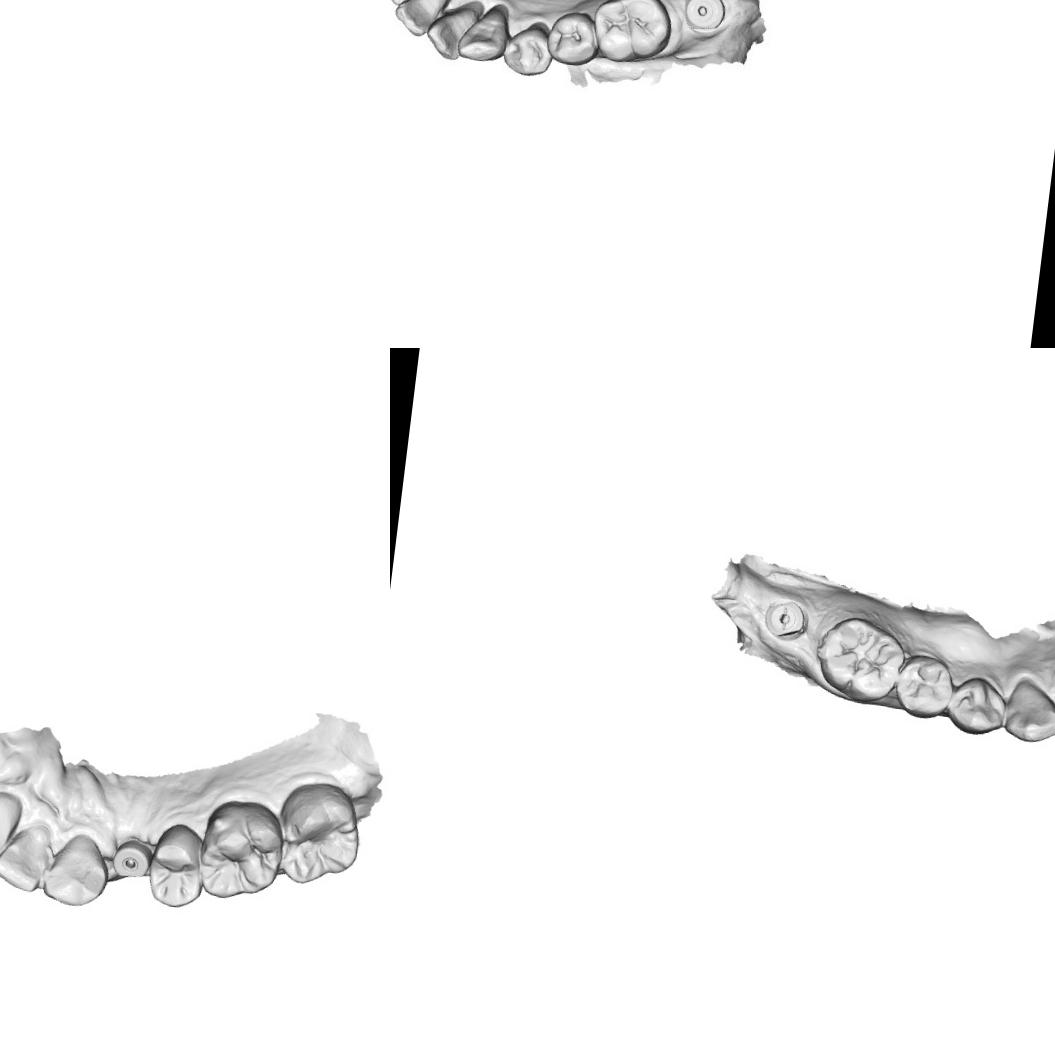canine: (38, 828, 115, 912), (453, 0, 514, 67), (1001, 674, 1055, 747)
implant: (110, 835, 158, 884), (680, 0, 726, 33)
implant_minus: (761, 594, 808, 642)
incisor: (0, 816, 53, 893), (424, 0, 480, 63), (391, 0, 446, 42), (0, 788, 18, 870)
molar: (268, 776, 368, 891), (193, 794, 290, 908), (812, 614, 908, 704), (585, 0, 677, 69)
premolar: (144, 819, 208, 912), (892, 652, 960, 721), (948, 672, 1012, 740), (542, 4, 602, 72), (498, 16, 555, 80)
